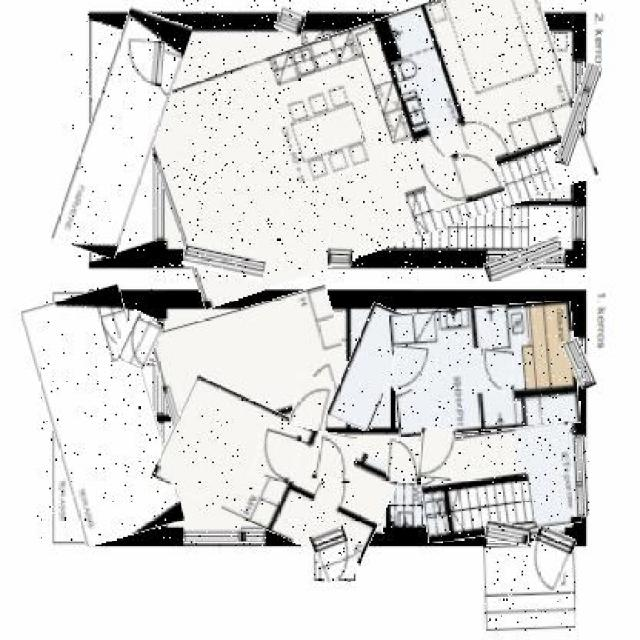door: (423, 148, 503, 208), (523, 528, 572, 590), (254, 429, 298, 482), (117, 312, 160, 366), (314, 526, 355, 582), (292, 376, 332, 430), (314, 432, 355, 483), (418, 428, 454, 480), (126, 40, 165, 86), (392, 345, 430, 389), (480, 349, 514, 389), (388, 440, 418, 482)
window: (563, 63, 594, 168), (182, 244, 266, 276), (484, 243, 564, 275), (572, 437, 590, 517), (566, 338, 592, 389), (182, 529, 264, 545), (486, 523, 529, 545), (276, 8, 304, 35), (328, 248, 352, 266), (572, 209, 585, 240)
zone: (147, 0, 586, 278), (157, 397, 395, 551), (37, 288, 169, 542), (156, 297, 352, 437), (71, 9, 174, 257), (392, 304, 578, 434), (418, 428, 578, 538), (337, 305, 403, 429), (484, 544, 576, 630), (291, 480, 386, 532)
